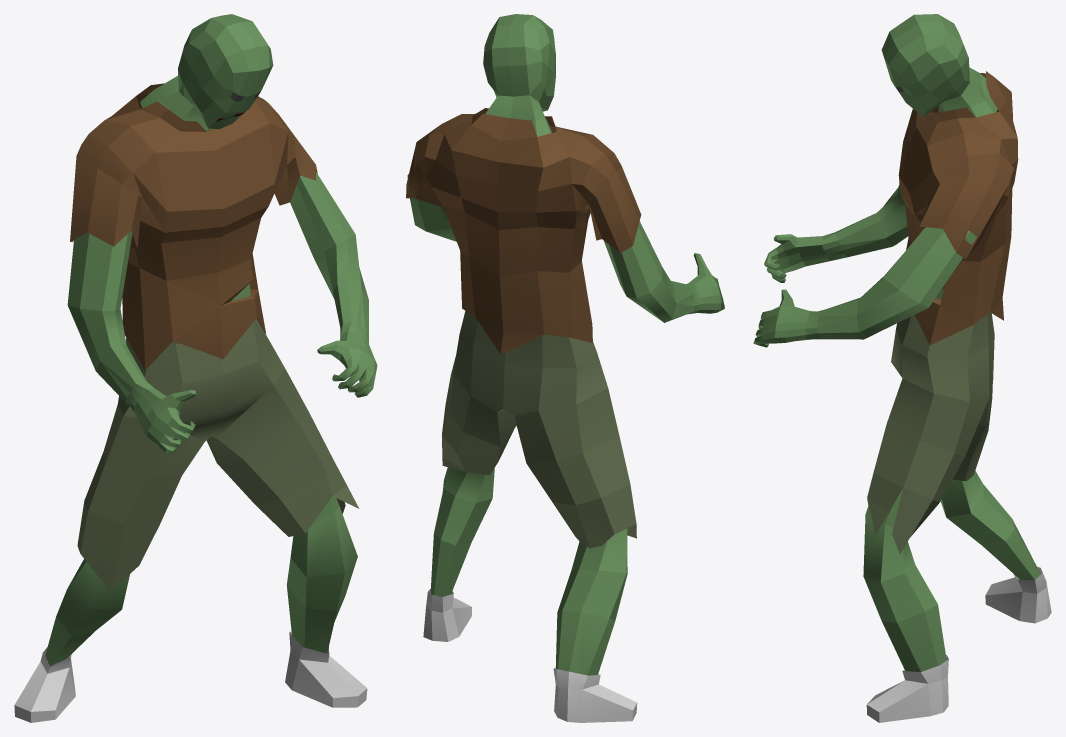
Rendered from ZombieAttack(7).obj.
The picture shows the model from 3 angles, left to right: view 1: azimuth 30°, elevation 25°; view 2: azimuth 150°, elevation 25°; view 3: azimuth 270°, elevation 25°; orthographic projection. The views are drawn at different scales.
Parts seen in each view (by area): view 1: Object001; view 2: Object001; view 3: Object001.
Part boxes in pixels (x1=…): Object001: x1=14, y1=14, x2=377, y2=722; Object001: x1=406, y1=14, x2=724, y2=722; Object001: x1=753, y1=14, x2=1051, y2=722.
Size of the model in its own units: 24.84 by 57 by 23.64.
